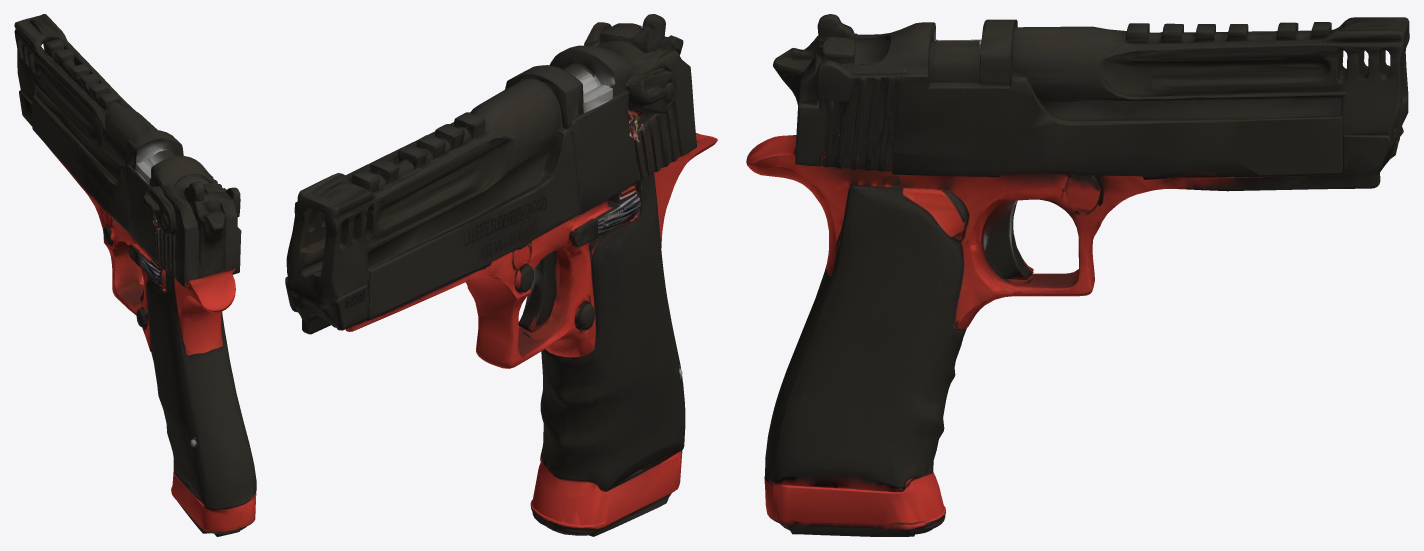
File: weapon_pistol_new.glb
3 views of the same model, side by side, from view 1: azimuth 30°, elevation 25°; view 2: azimuth 150°, elevation 25°; view 3: azimuth 270°, elevation 25° (orthographic). The views are drawn at different scales.
Visible parts, largest first — view 1: Slide, Pistol, Magazine; view 2: Slide, Pistol, Magazine; view 3: Slide, Pistol, Magazine.
Boxes of the visible parts, x1,y1,x2,y2 form: Slide: [14, 14, 241, 277]; Pistol: [22, 103, 246, 446]; Magazine: [163, 407, 256, 536]; Slide: [285, 14, 694, 329]; Pistol: [289, 95, 717, 409]; Magazine: [530, 360, 685, 536]; Slide: [773, 14, 1409, 175]; Pistol: [746, 101, 1391, 409]; Magazine: [764, 373, 950, 536].
Bounding box in the file's own units: 0.044 × 0.171 × 0.198.
1 material, 1 textured.
